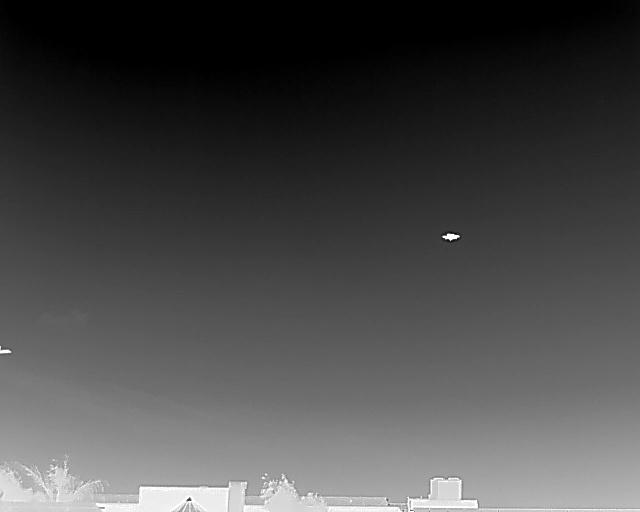fpv-drone: (441, 232, 460, 242)
